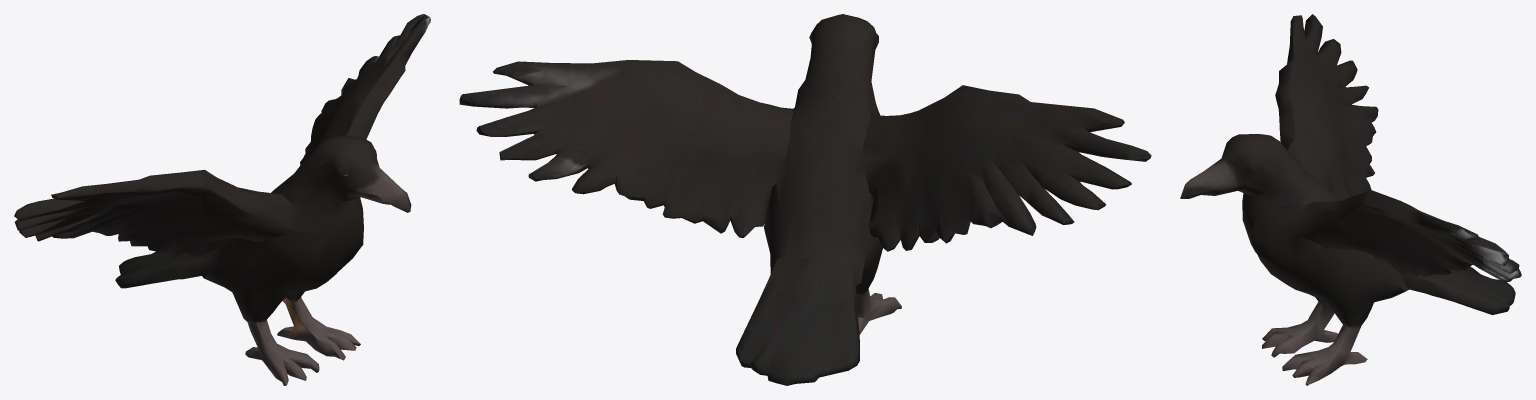
Rendered from crow_idle.glb.
The picture shows the model from 3 angles, left to right: view 1: azimuth 30°, elevation 25°; view 2: azimuth 150°, elevation 25°; view 3: azimuth 270°, elevation 25°; orthographic projection. The views are drawn at different scales.
Parts seen in each view (by area): view 1: crow; view 2: crow; view 3: crow.
Boxes of the visible parts, x1=… form: crow: x1=14, y1=14, x2=430, y2=385; crow: x1=459, y1=14, x2=1151, y2=385; crow: x1=1180, y1=14, x2=1521, y2=385.
Bounding box in the file's own units: 0.6773 × 0.3 × 0.4013.
1 material, 1 textured.
